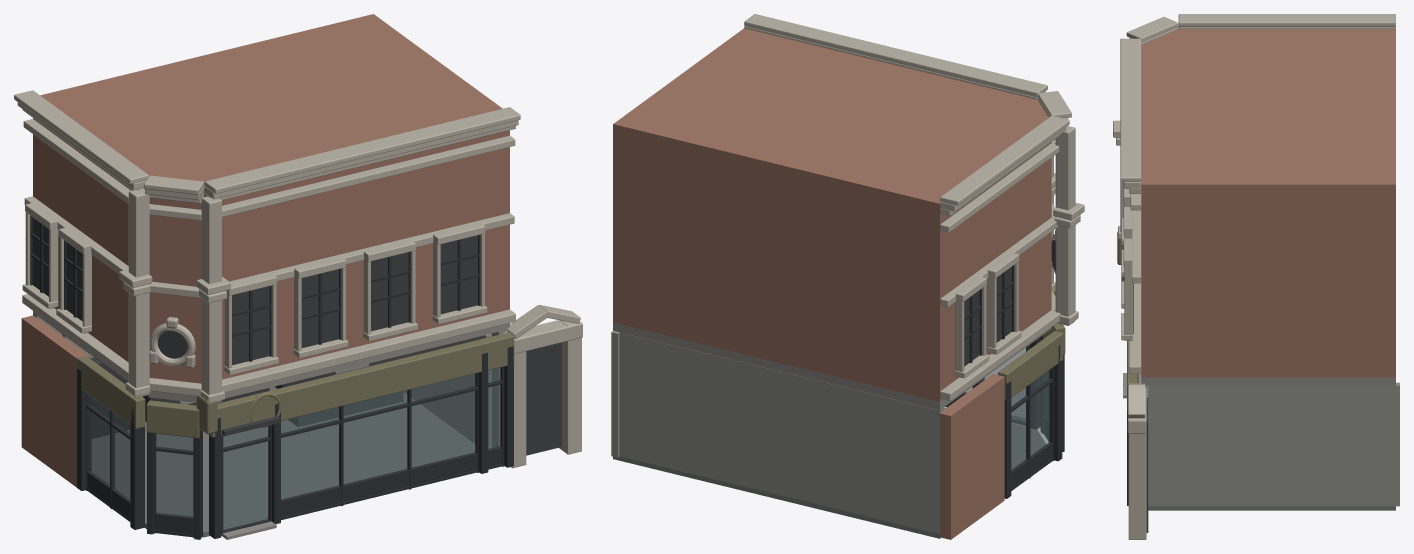
Rendered from harperhey-mcr1-geometry.glb.
3 renders of one model, left to right at view 1: azimuth 30°, elevation 25°; view 2: azimuth 150°, elevation 25°; view 3: azimuth 270°, elevation 25°, orthographic. The views are drawn at different scales.
Parts seen in each view (by area): view 1: MCR1_Historic_Upper_Mass, MCR1_Interior_Floor_Slab, MCR1_Front_Display_Glass, MCR1_HistoricFascia_Front_BackBox, MCR1_Side_Masonry_Return, MCR1_Cornice_2_Front, MCR1_StoneCourse_0_Front, MCR1_Door_Glass, MCR1_CornerPilaster_Side, MCR1_Portal_Recess, MCR1_CornerPilaster_Front, MCR1_Front_Display_Stall_Riser (+46 smaller); view 2: MCR1_Historic_Upper_Mass, MCR1_Shell_RearWall, MCR1_Side_Masonry_Return, MCR1_Cornice_2_Front, MCR1_CornerPilaster_Side, MCR1_Ground_Header_Slab, MCR1_Cornice_2_Side, MCR1_Interior_Floor_Slab, MCR1_Side_Display_Glass, MCR1_HistoricFascia_Side_BackBox, MCR1_StoneCourse_0_Side, MCR1_StoneCourse_2_Side (+13 smaller); view 3: MCR1_Historic_Upper_Mass, MCR1_Shell_RightWall, MCR1_Cornice_2_Front, MCR1_Cornice_2_Side, MCR1_Ground_Header_Slab, MCR1_Portal_Jamb_7.08, MCR1_Interior_Floor_Slab, MCR1_StoneCourse_0_Front, MCR1_StoneCourse_1_Front, MCR1_Cornice_2_Corner, MCR1_Cornice_1_Side, MCR1_Front_UpperWindow_04_RightJamb (+3 smaller).
Boxes of the visible parts, x1,y1,x2,y2 form: MCR1_Historic_Upper_Mass: (33, 14, 509, 383); MCR1_Interior_Floor_Slab: (92, 392, 474, 537); MCR1_Front_Display_Glass: (281, 374, 475, 499); MCR1_HistoricFascia_Front_BackBox: (208, 332, 514, 437); MCR1_Side_Masonry_Return: (21, 315, 89, 487); MCR1_Cornice_2_Front: (204, 107, 520, 193); MCR1_StoneCourse_0_Front: (222, 309, 515, 392); MCR1_Door_Glass: (223, 426, 268, 529); MCR1_CornerPilaster_Side: (128, 189, 149, 397); MCR1_Portal_Recess: (526, 342, 561, 455); MCR1_CornerPilaster_Front: (201, 196, 221, 402); MCR1_Front_Display_Stall_Riser: (281, 452, 476, 517); MCR1_Historic_Upper_Mass: (613, 28, 1051, 401); MCR1_Shell_RearWall: (619, 332, 943, 534); MCR1_Side_Masonry_Return: (939, 374, 1004, 539); MCR1_Cornice_2_Front: (744, 14, 1047, 97); MCR1_CornerPilaster_Side: (1055, 126, 1075, 325); MCR1_Ground_Header_Slab: (613, 322, 1051, 410); MCR1_Cornice_2_Side: (940, 115, 1069, 205); MCR1_Interior_Floor_Slab: (613, 407, 1045, 538); MCR1_Side_Display_Glass: (1011, 370, 1049, 469); MCR1_HistoricFascia_Side_BackBox: (998, 331, 1063, 400); MCR1_StoneCourse_0_Side: (940, 310, 1060, 400); MCR1_StoneCourse_2_Side: (940, 143, 1059, 232); MCR1_Historic_Upper_Mass: (1141, 29, 1395, 377); MCR1_Shell_RightWall: (1148, 382, 1399, 506); MCR1_Cornice_2_Front: (1120, 38, 1141, 181); MCR1_Cornice_2_Side: (1178, 14, 1395, 26); MCR1_Ground_Header_Slab: (1141, 377, 1395, 385); MCR1_Portal_Jamb_7.08: (1128, 413, 1146, 539); MCR1_Interior_Floor_Slab: (1145, 385, 1395, 510); MCR1_StoneCourse_0_Front: (1129, 283, 1141, 373); MCR1_StoneCourse_1_Front: (1132, 210, 1141, 283); MCR1_Cornice_2_Corner: (1126, 17, 1178, 42); MCR1_Cornice_1_Side: (1178, 26, 1395, 29); MCR1_Front_UpperWindow_04_RightJamb: (1124, 263, 1132, 340).
Size of the model in its own units: 12.46 by 9.8 by 7.65.
